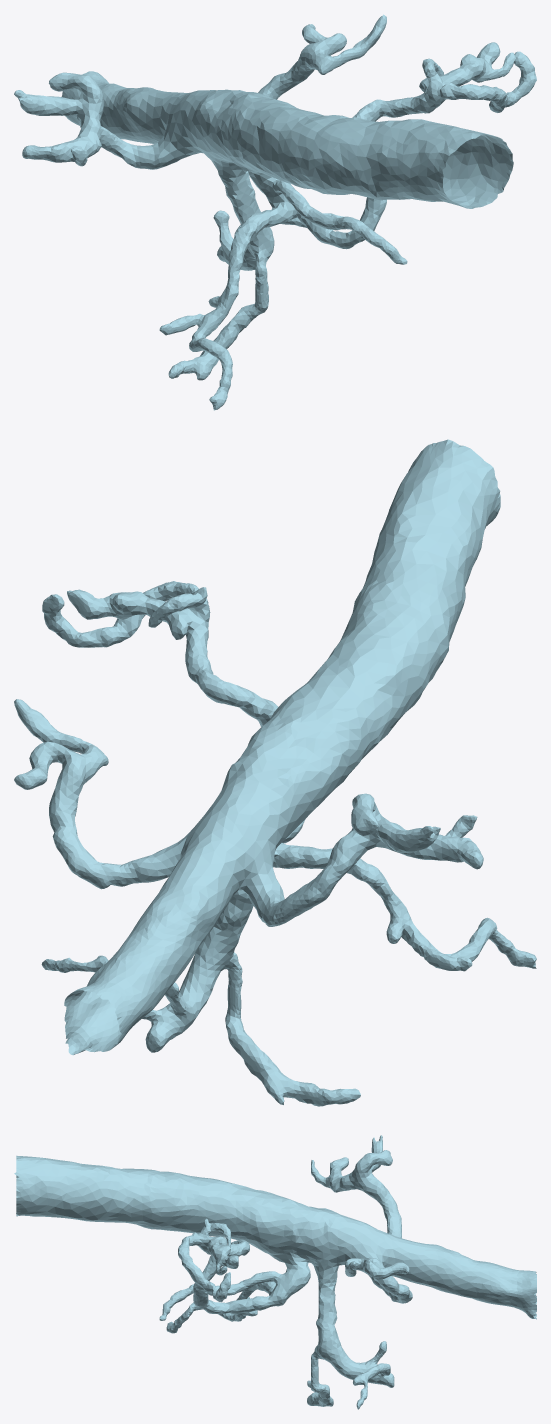
Rendered from artery.obj.
The picture shows the model from 3 angles, top to bottom: view 1: azimuth 30°, elevation 25°; view 2: azimuth 150°, elevation 25°; view 3: azimuth 270°, elevation 25°; orthographic projection. The views are drawn at different scales.
Visible parts, largest first — view 1: grp1; view 2: grp1; view 3: grp1.
Part boxes in pixels (x1,y1,x2,y2): grp1: (14, 14, 536, 410); grp1: (14, 439, 536, 1106); grp1: (14, 1135, 536, 1409).
Size of the model in its own units: 159 by 129 by 220.
